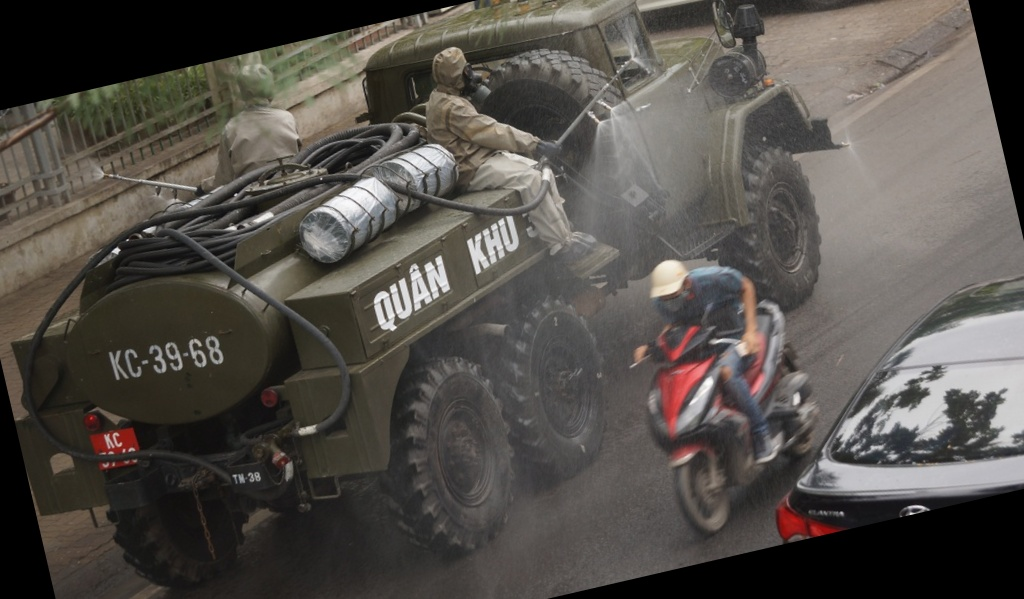plate: (89, 426, 144, 472)
